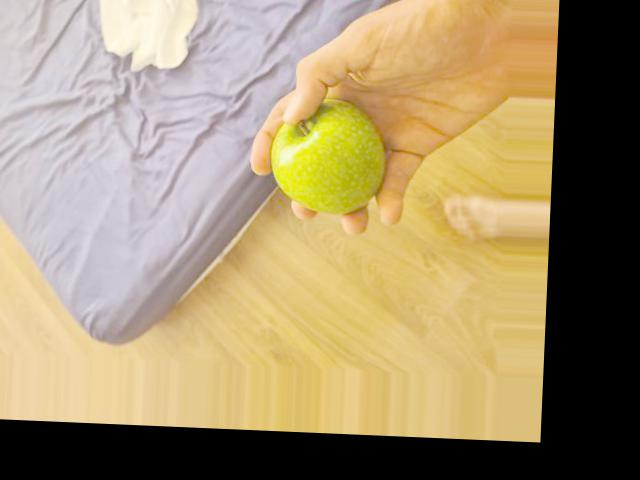apple: (270, 104, 391, 216)
